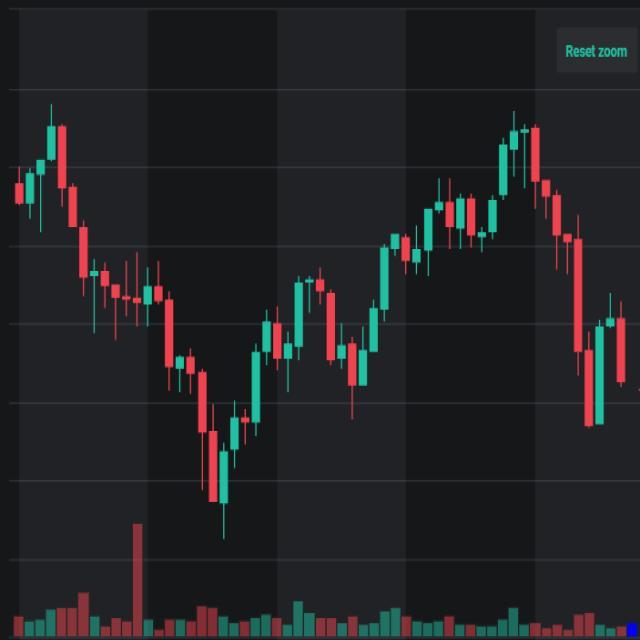Resistance-breakout: (256, 100, 545, 409)
